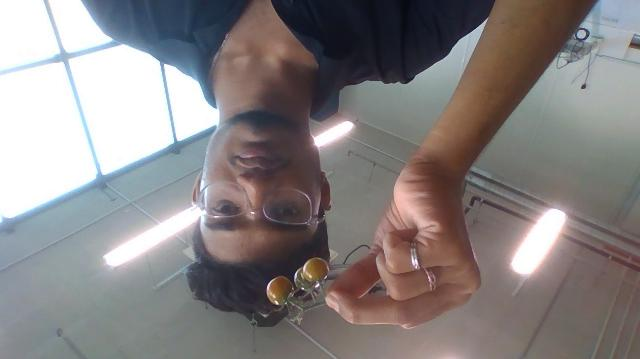Fully Grown: (300, 257, 329, 289), (266, 275, 294, 306)
